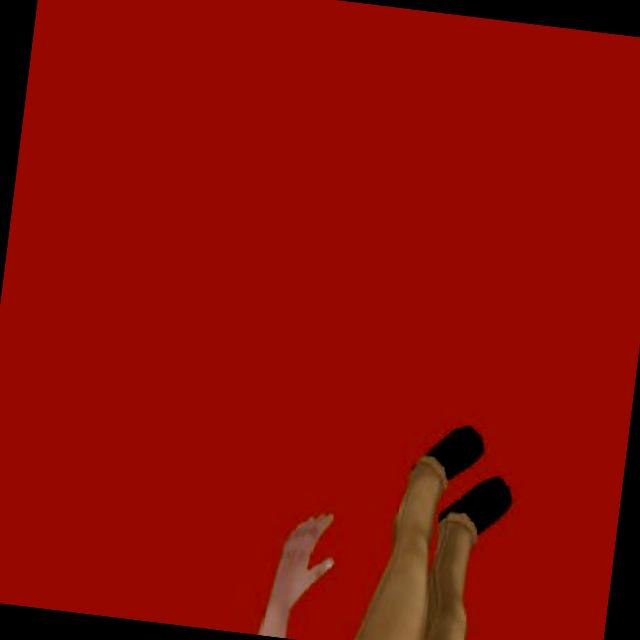Person: (256, 396, 526, 640)
